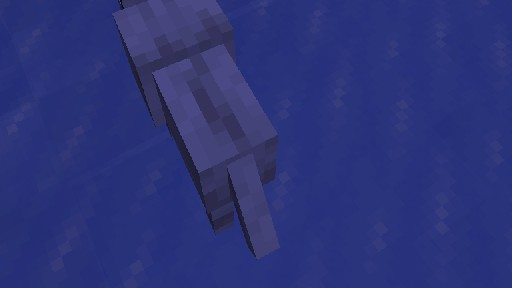wolf: (111, 0, 279, 260)
